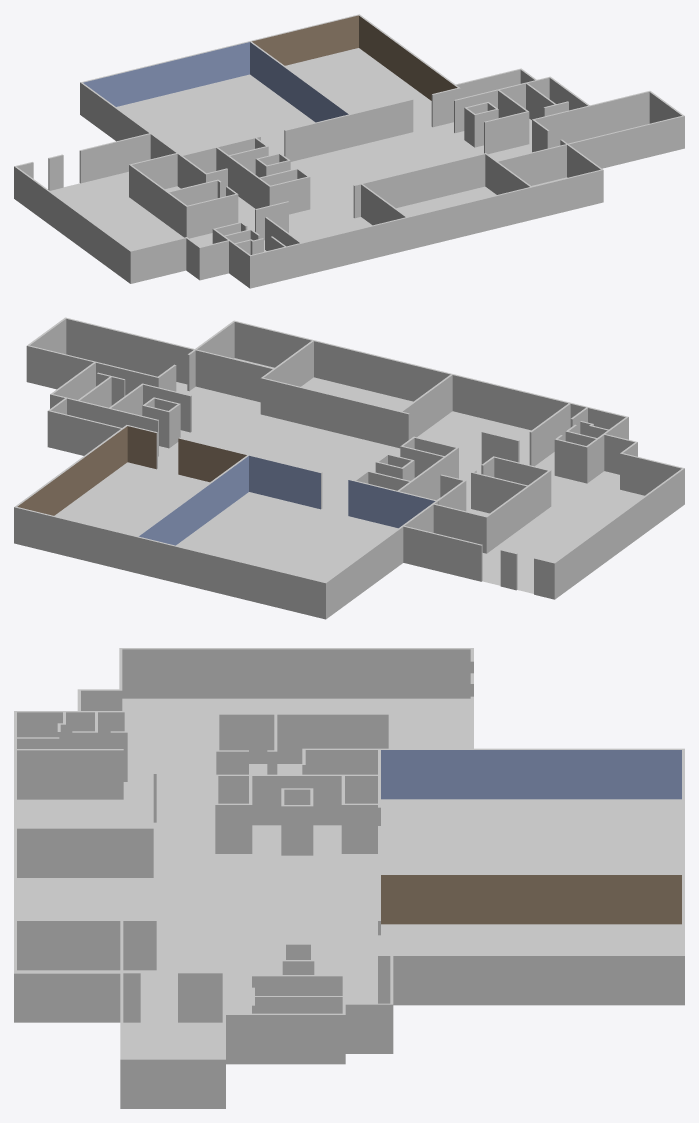
File: floor_1.glb
The picture shows the model from 3 angles, top to bottom: view 1: azimuth 30°, elevation 25°; view 2: azimuth 150°, elevation 25°; view 3: azimuth 270°, elevation 25°; orthographic projection. The views are drawn at different scales.
Parts seen in each view (by area): view 1: join; view 2: join; view 3: join.
Part boxes in pixels (x1,y1,x2,y2): join: [14, 14, 684, 288]; join: [14, 317, 684, 619]; join: [14, 648, 684, 1108].
Size of the model in its own units: 14.32 by 0.8012 by 9.86.
